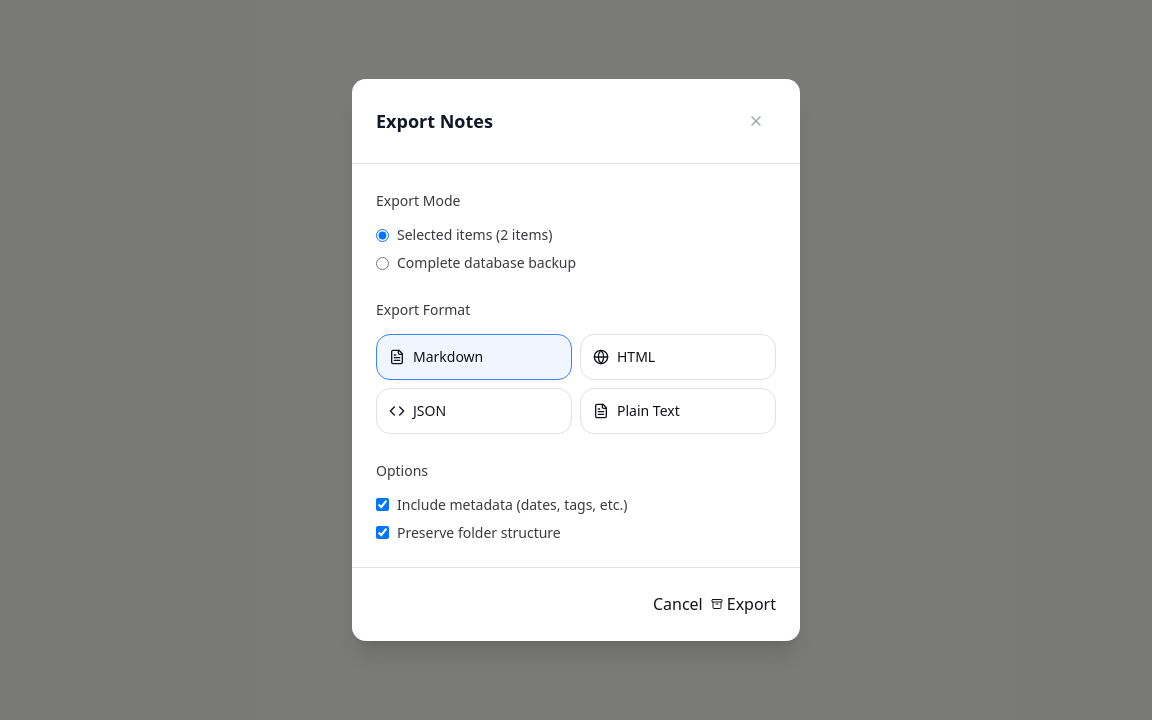
ExportModal › Bulk Export › should export multiple notes
Click the button "Export": (743, 604) [711,592,776,617]
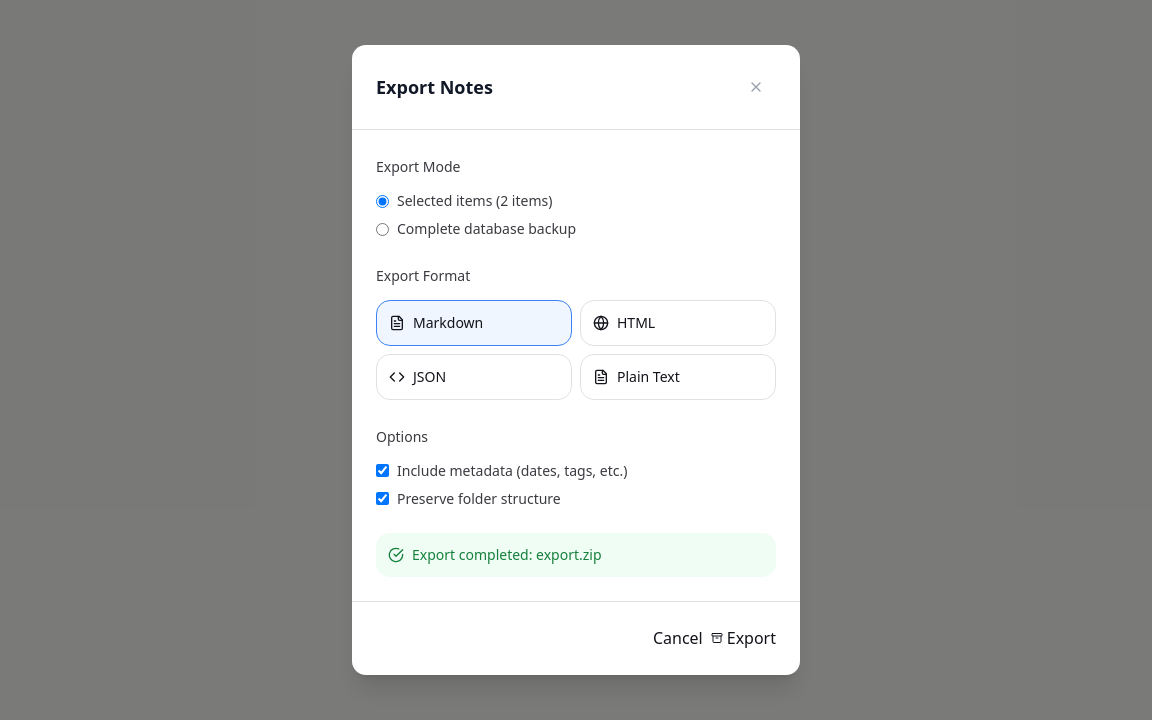
Expected: the text "Export completed: export.zip" is shown, [412,545,602,565]
